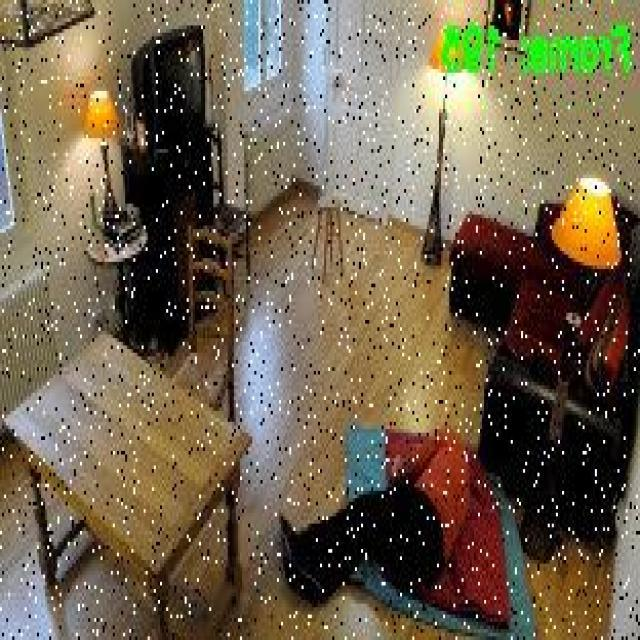fall: (276, 417, 473, 612)
